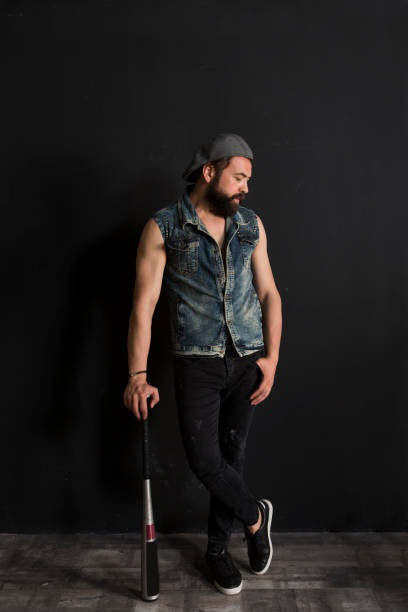bita: (133, 378, 164, 607)
